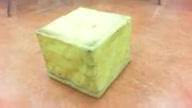cube: (35, 6, 131, 99)
